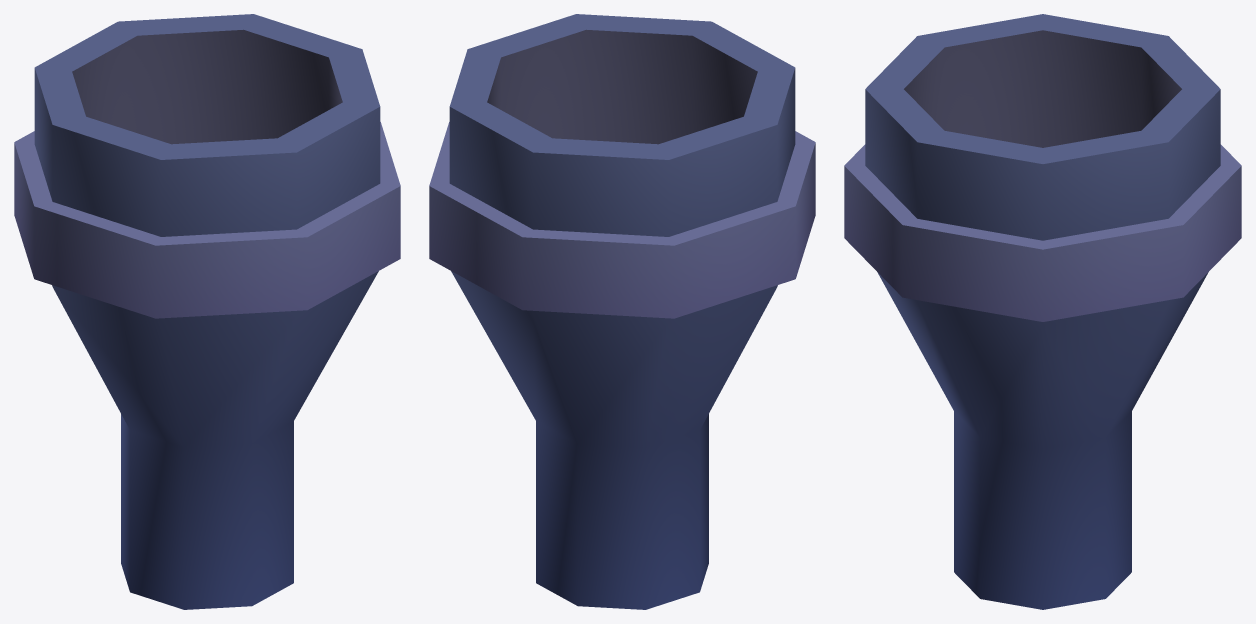
Rendered from hopper-high-round.glb.
3 views of the same model, side by side, from view 1: azimuth 30°, elevation 25°; view 2: azimuth 150°, elevation 25°; view 3: azimuth 270°, elevation 25° (orthographic).
Visible parts, largest first — view 1: hopper-high-round; view 2: hopper-high-round; view 3: hopper-high-round.
Boxes of the visible parts, box(x1,y1,x2,y2) form: hopper-high-round: box(14, 14, 400, 609); hopper-high-round: box(429, 14, 815, 609); hopper-high-round: box(844, 14, 1241, 609).
Bounding box in the file's own units: 1.12 × 1.5 × 1.12.
